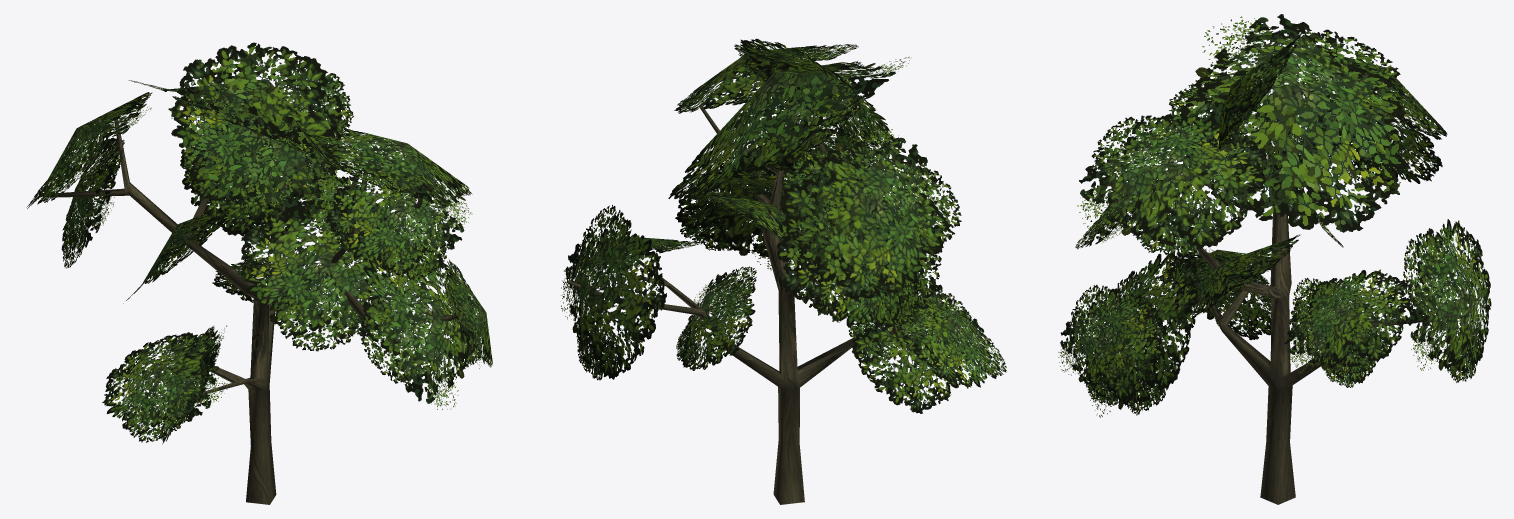
Rendered from Momo_Tree_Oak1.fbx.
The picture shows the model from 3 angles, left to right: view 1: azimuth 30°, elevation 25°; view 2: azimuth 150°, elevation 25°; view 3: azimuth 270°, elevation 25°; orthographic projection. The views are drawn at different scales.
Visible parts, largest first — view 1: MomoTree1.001; view 2: MomoTree1.001; view 3: MomoTree1.001.
Boxes of the visible parts, x1,y1,x2,y2 form: MomoTree1.001: [26, 42, 492, 504]; MomoTree1.001: [560, 38, 1006, 504]; MomoTree1.001: [1058, 14, 1491, 504].
Bounding box in the file's own units: 1696 × 1954 × 1715.
